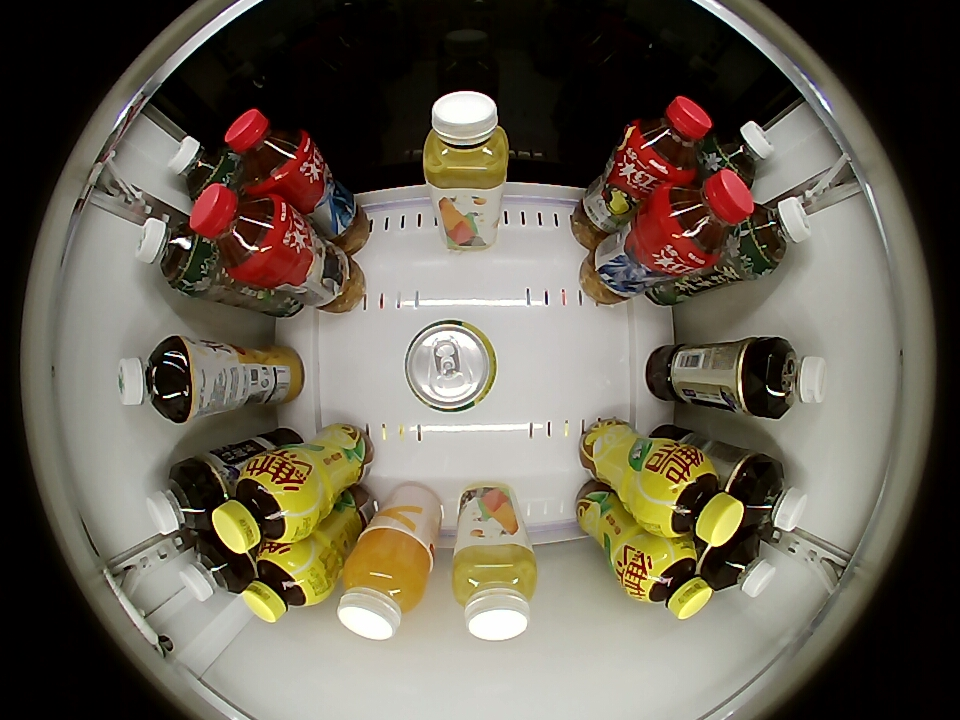binghongcha: (189, 183, 290, 287), (652, 170, 754, 270), (625, 95, 713, 182), (224, 108, 314, 192)
chapai2: (423, 90, 509, 192), (452, 543, 537, 641)
damaicha: (116, 336, 195, 423)
moliqingcha: (736, 197, 812, 275), (135, 216, 210, 292), (706, 121, 774, 186), (168, 135, 235, 199)
weic: (336, 526, 434, 640)
weitaningmeng-bottle: (646, 453, 745, 547), (212, 460, 308, 554), (627, 541, 712, 620), (243, 544, 327, 623)
wulongcha: (753, 337, 829, 420), (739, 457, 808, 533), (145, 463, 215, 535), (707, 530, 777, 598), (179, 537, 246, 603)
xuebi2: (404, 319, 499, 413)
